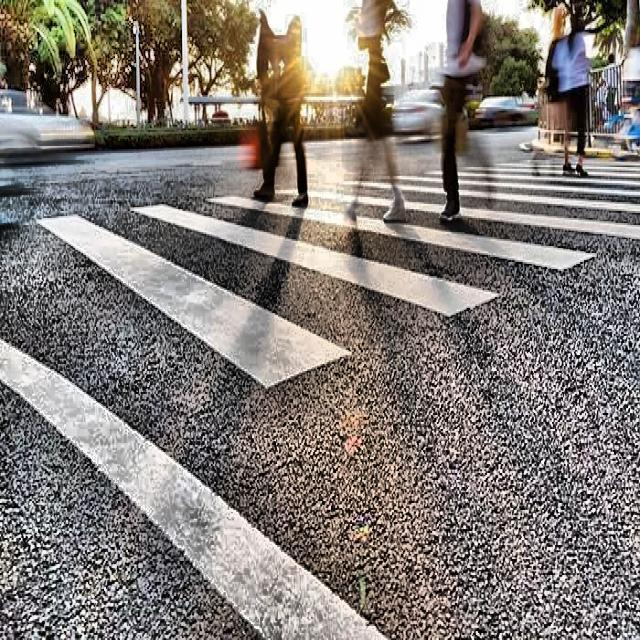crosswalk: (27, 154, 638, 395)
